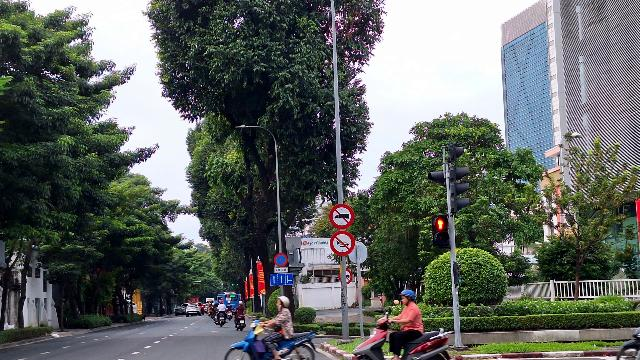cam-bop-coi: (329, 230, 355, 257)
cam-do-xe: (274, 253, 288, 267)
